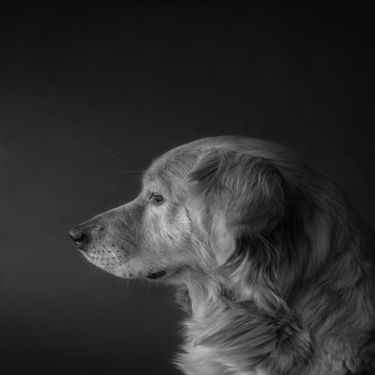dog: (66, 127, 370, 373)
